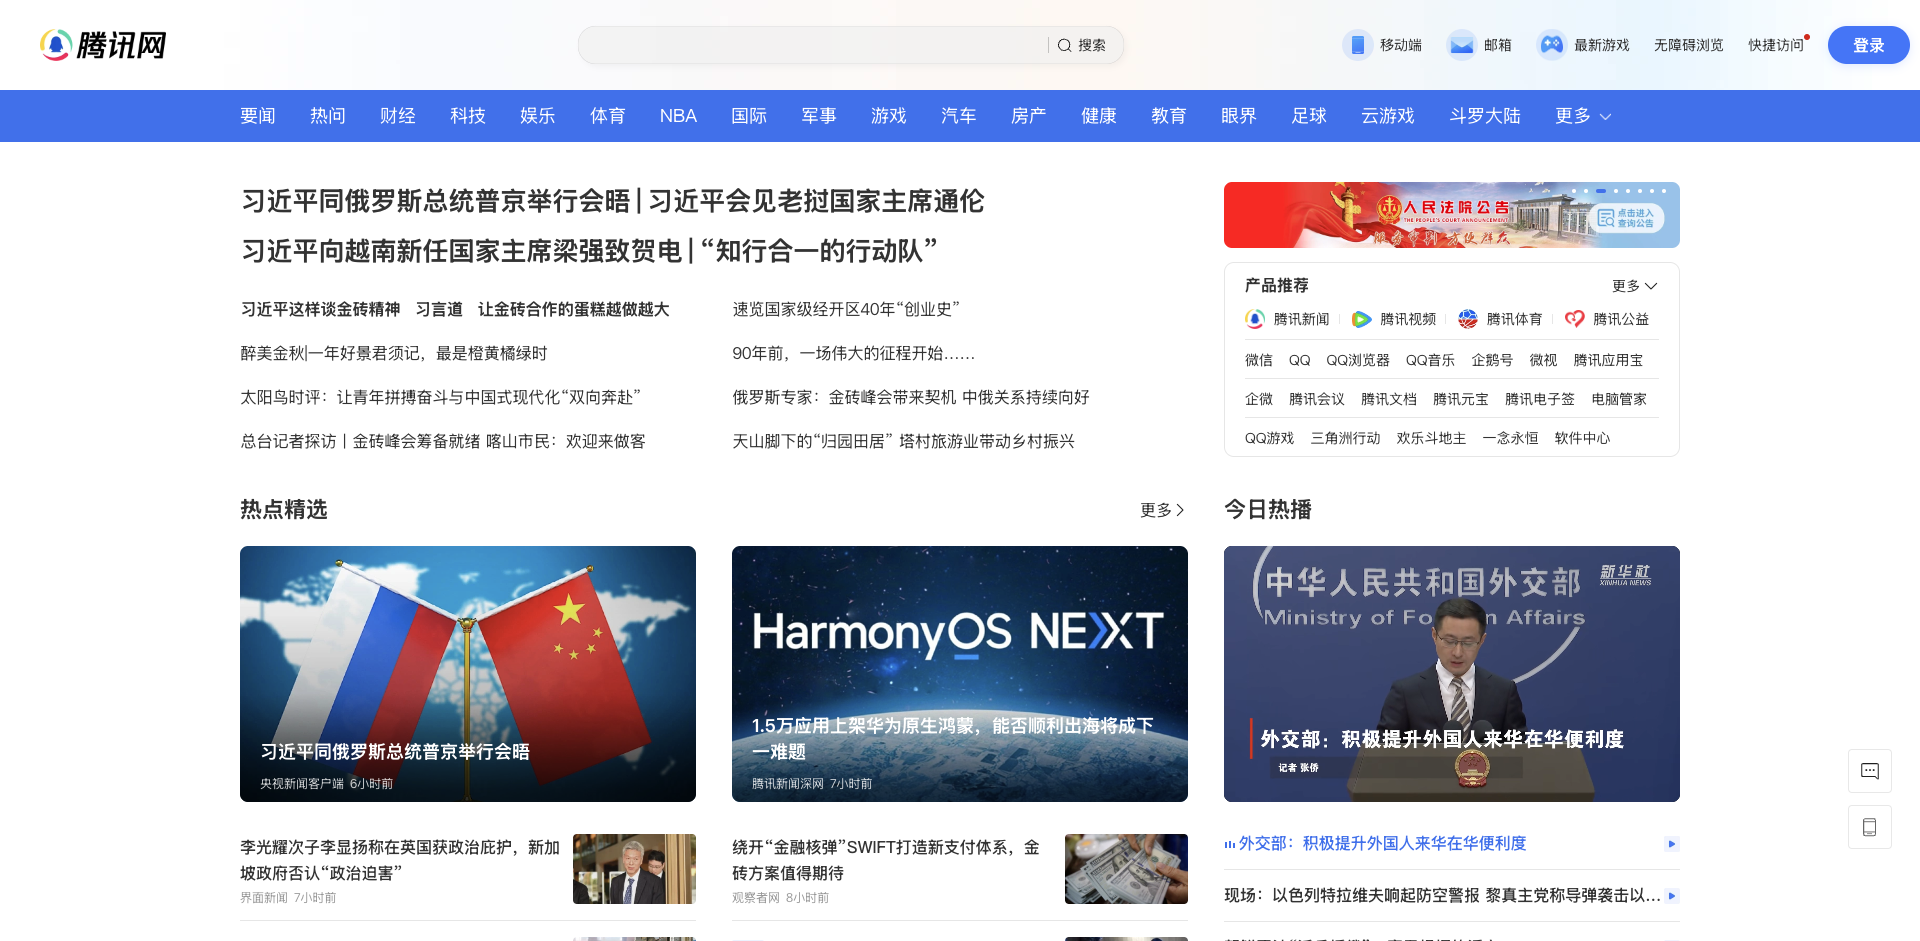button: (1848, 749, 1900, 841), (1828, 26, 1910, 64), (1048, 26, 1124, 64), (1704, 96, 1784, 127)
clickable: (1224, 176, 1670, 197)
dropdown: (1434, 66, 1804, 157), (1749, 28, 1804, 62), (1599, 110, 1611, 123)
icon: (1536, 29, 1569, 61), (1342, 29, 1374, 61), (1446, 29, 1478, 61)
input: (578, 26, 1124, 64)
link: (240, 546, 696, 803), (732, 546, 1188, 803), (732, 713, 1188, 803), (768, 183, 1224, 248), (1224, 183, 1680, 248), (240, 739, 696, 803), (240, 232, 682, 270), (1680, 183, 1920, 248), (240, 834, 563, 882), (732, 834, 1056, 882), (240, 183, 631, 219), (648, 183, 986, 219), (699, 232, 940, 270), (240, 430, 645, 452), (240, 386, 642, 408), (1224, 886, 1662, 905), (573, 834, 696, 904), (1065, 834, 1188, 904), (732, 386, 1090, 408), (1239, 834, 1664, 853), (732, 430, 1075, 452), (240, 342, 547, 364), (732, 342, 976, 364), (732, 298, 960, 320), (478, 298, 670, 320), (40, 29, 167, 61), (240, 298, 400, 320), (1536, 29, 1630, 61), (1342, 29, 1422, 61), (1446, 29, 1512, 61), (1449, 107, 1521, 126), (1828, 26, 1860, 64), (240, 937, 563, 941), (732, 937, 1056, 941), (1396, 430, 1467, 446), (1654, 37, 1724, 53), (1573, 352, 1643, 368), (1505, 391, 1575, 407), (1310, 430, 1380, 446), (1555, 107, 1611, 126), (1360, 107, 1416, 126), (1224, 939, 1662, 941), (415, 298, 463, 320), (1326, 352, 1390, 368), (1273, 311, 1330, 327), (1380, 311, 1436, 327), (1487, 311, 1543, 327), (1593, 311, 1649, 327), (1360, 391, 1417, 407), (1433, 391, 1489, 407), (1591, 391, 1647, 407), (1554, 430, 1610, 446), (1289, 391, 1344, 407), (1483, 430, 1538, 446), (240, 890, 288, 907), (732, 890, 780, 907), (1406, 352, 1456, 368), (1245, 430, 1294, 446), (1140, 501, 1188, 517), (310, 107, 347, 126), (380, 107, 416, 126), (660, 107, 697, 126), (801, 107, 838, 126), (871, 107, 907, 126), (940, 107, 977, 126), (1221, 107, 1258, 126), (1291, 107, 1327, 126), (240, 107, 276, 126), (451, 107, 486, 126), (520, 107, 556, 126), (590, 107, 626, 126), (731, 107, 767, 126), (1011, 107, 1047, 126), (1081, 107, 1117, 126), (1151, 107, 1187, 126), (1472, 352, 1513, 368), (573, 937, 696, 941), (1065, 937, 1188, 941), (1245, 352, 1273, 368), (1529, 352, 1558, 368), (1245, 391, 1273, 407), (1289, 352, 1310, 368)
